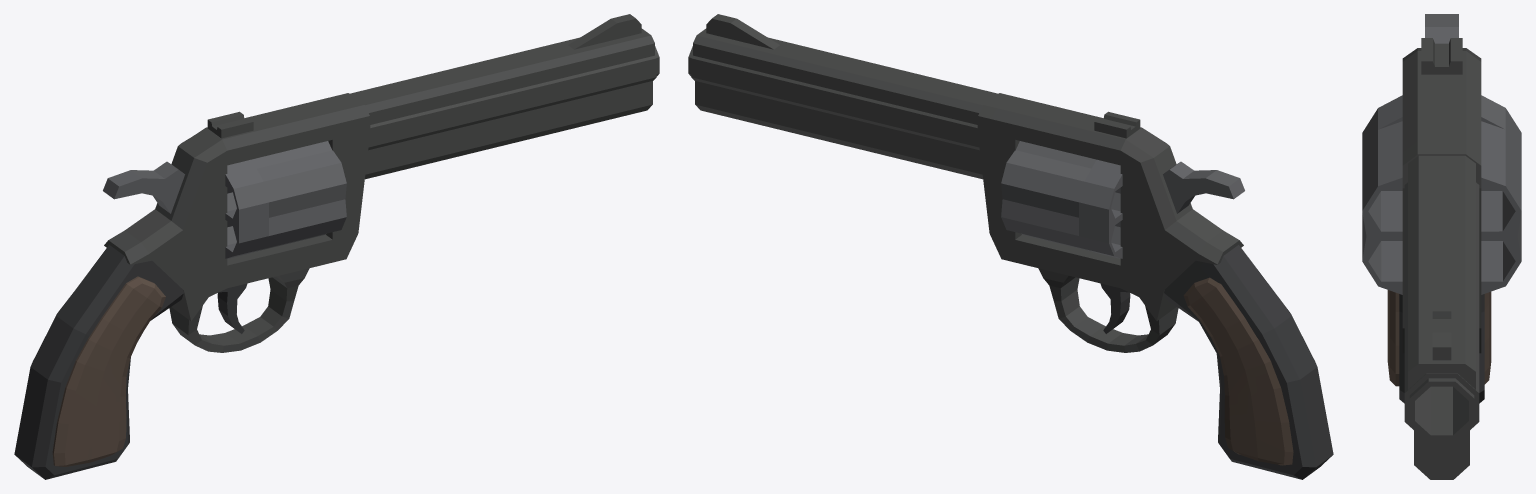
The model's file is revolver_2.glb.
3 renders of one model, left to right at view 1: azimuth 30°, elevation 25°; view 2: azimuth 150°, elevation 25°; view 3: azimuth 270°, elevation 25°, orthographic. The views are drawn at different scales.
Visible parts, largest first — view 1: Revolver_2; view 2: Revolver_2; view 3: Revolver_2.
Part boxes in pixels (x1,y1,x2,y2): Revolver_2: (14, 14, 659, 479); Revolver_2: (688, 14, 1333, 479); Revolver_2: (1362, 14, 1521, 479).
Size of the model in its own units: 1.98 by 0.9437 by 0.2944.
